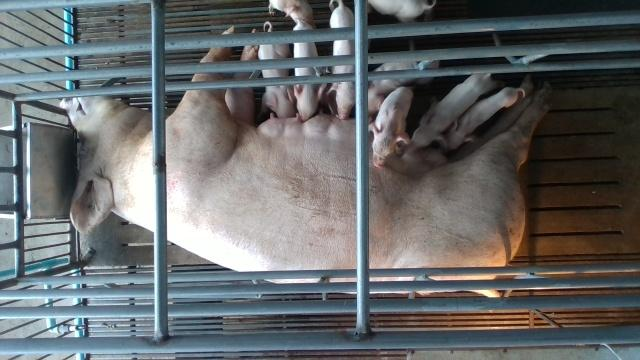piglet: (412, 74, 503, 150), (444, 87, 527, 152), (366, 60, 439, 123), (367, 86, 412, 168), (258, 21, 296, 118), (293, 20, 328, 121), (329, 1, 355, 121), (367, 0, 440, 24), (266, 0, 316, 28)
sow-sleep-lactate: (59, 25, 547, 298)
